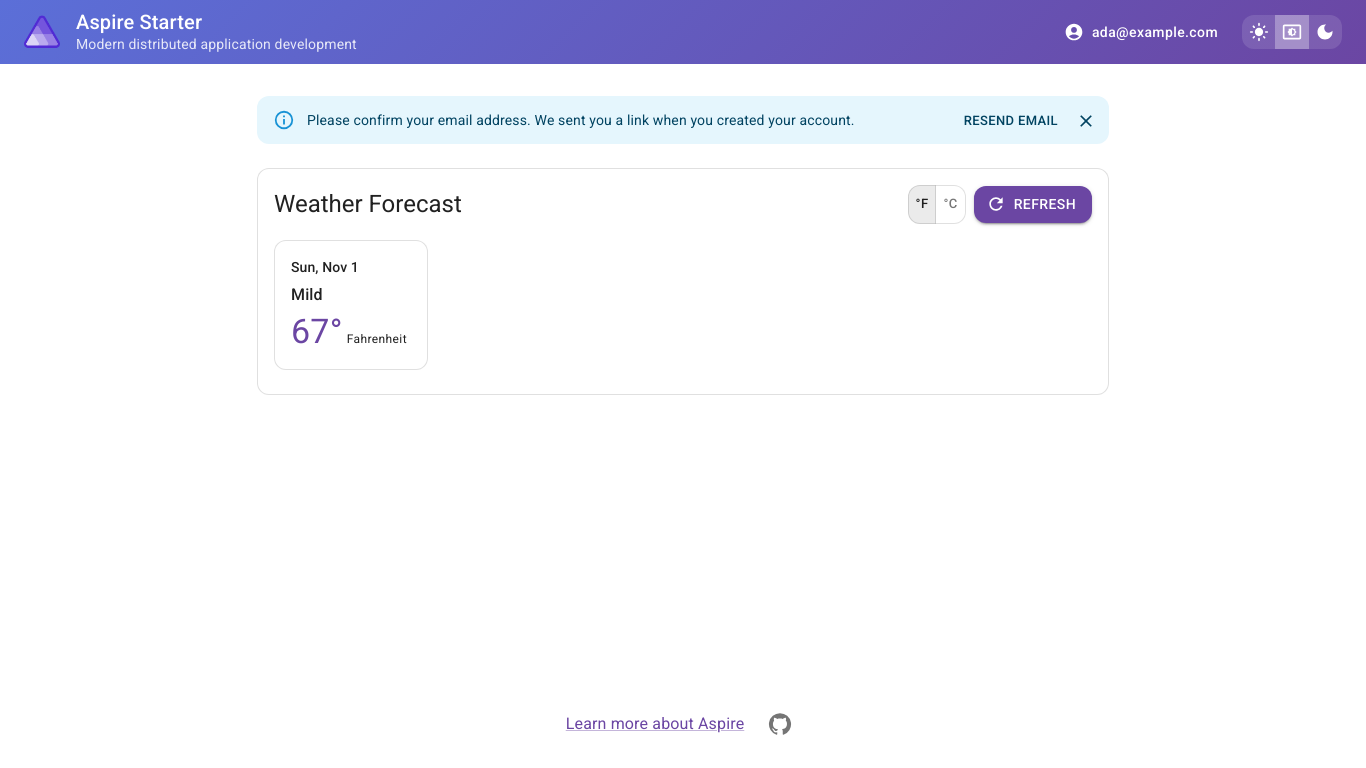
Scenario: UserMenu › shows the email and signs out to the sign-in page
Click the button with aria-label "Account menu for ada@example.com" at (1143, 32), box 1060,14 -> 1226,50
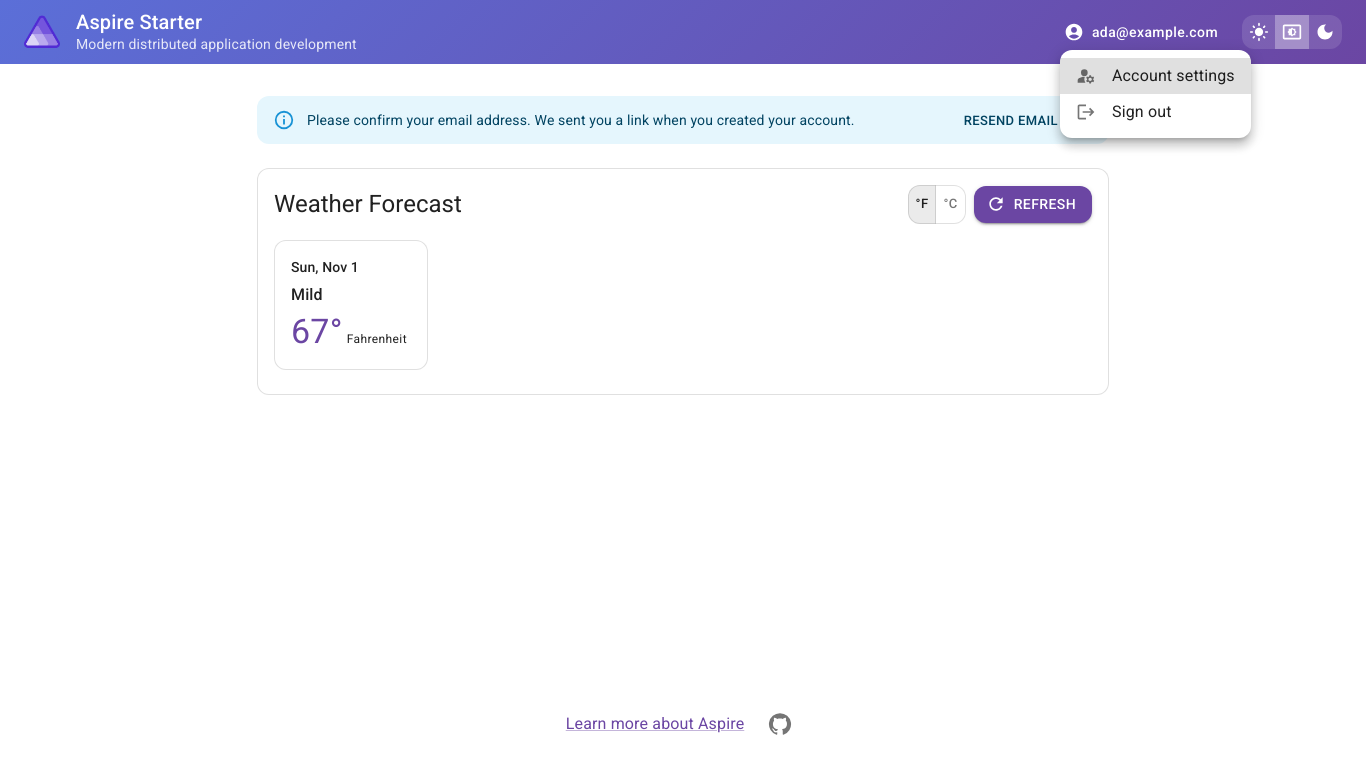
Click the menu item "Sign out" at (1124, 112), box 1076,102 -> 1172,122
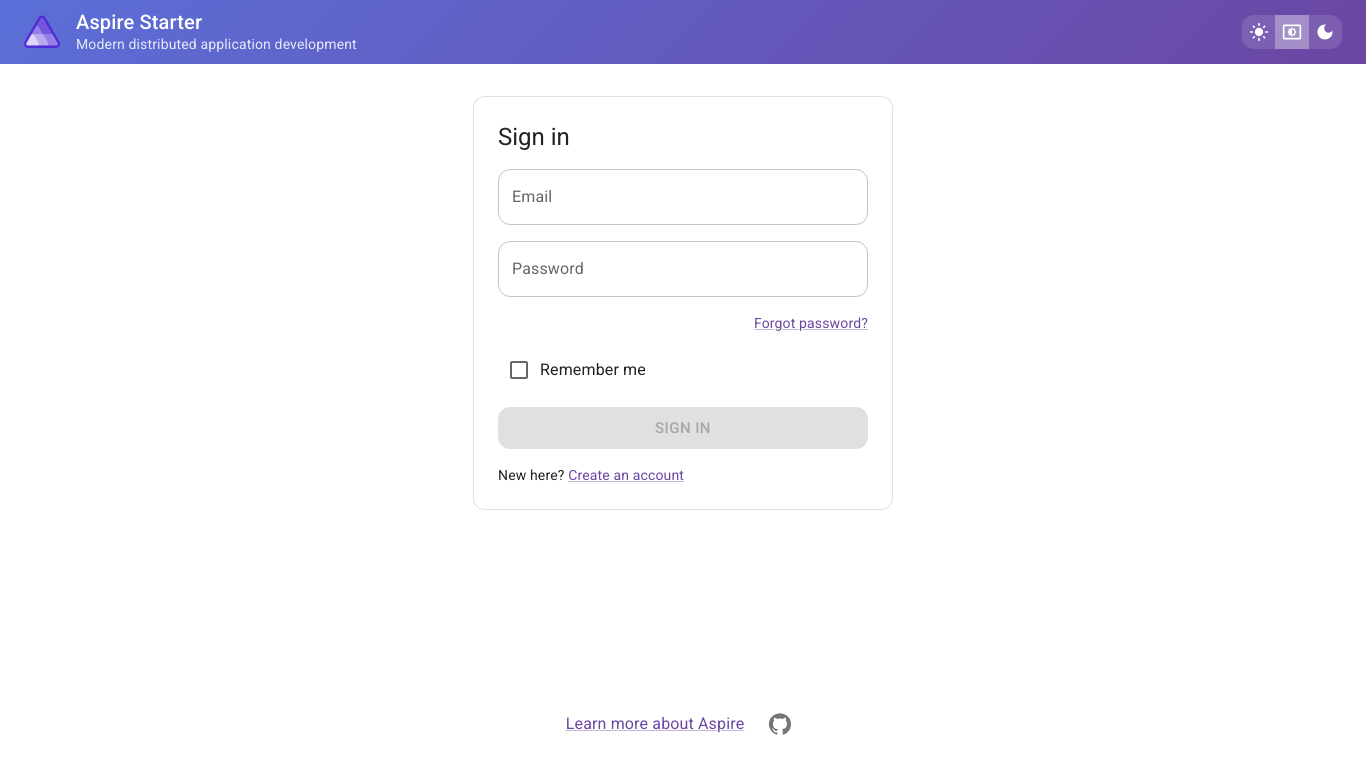
Expected: the heading "Sign in" is shown, 498,123 -> 570,151
Expected: the button "Account menu" is gone
